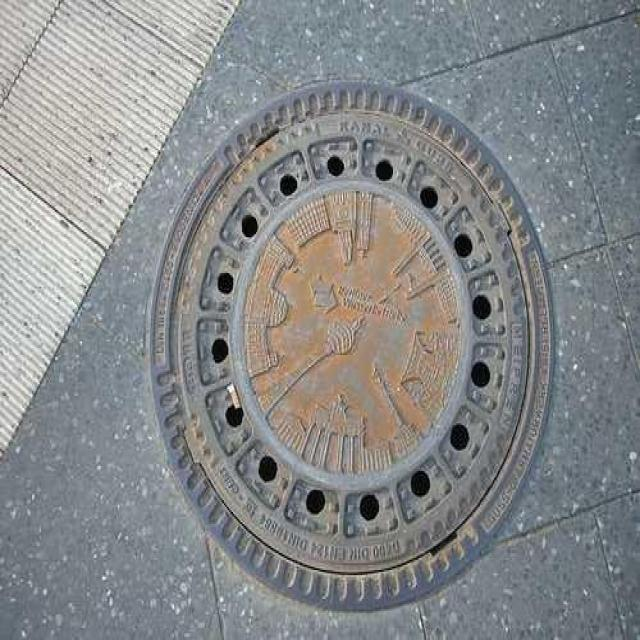manhole: (150, 83, 550, 608)
